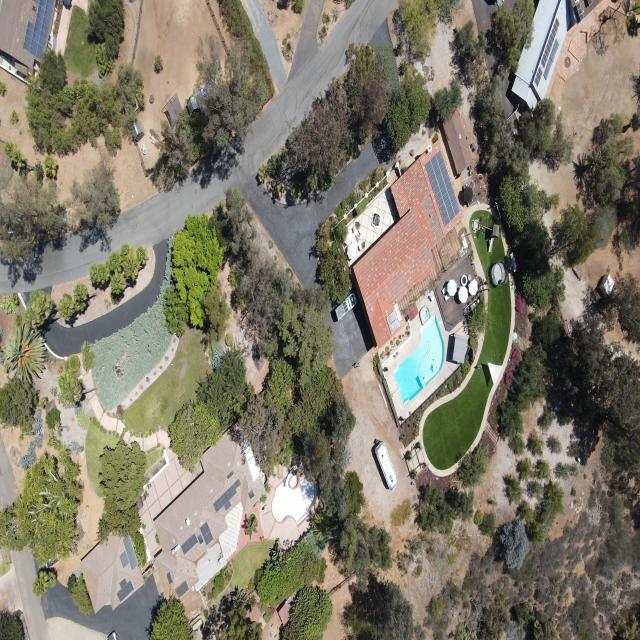solar-panels: (422, 149, 464, 227), (20, 0, 55, 62), (209, 478, 249, 517), (539, 17, 562, 69), (113, 534, 139, 573), (110, 575, 137, 603), (178, 533, 201, 555), (198, 521, 215, 546), (172, 579, 192, 599), (533, 66, 545, 88)
